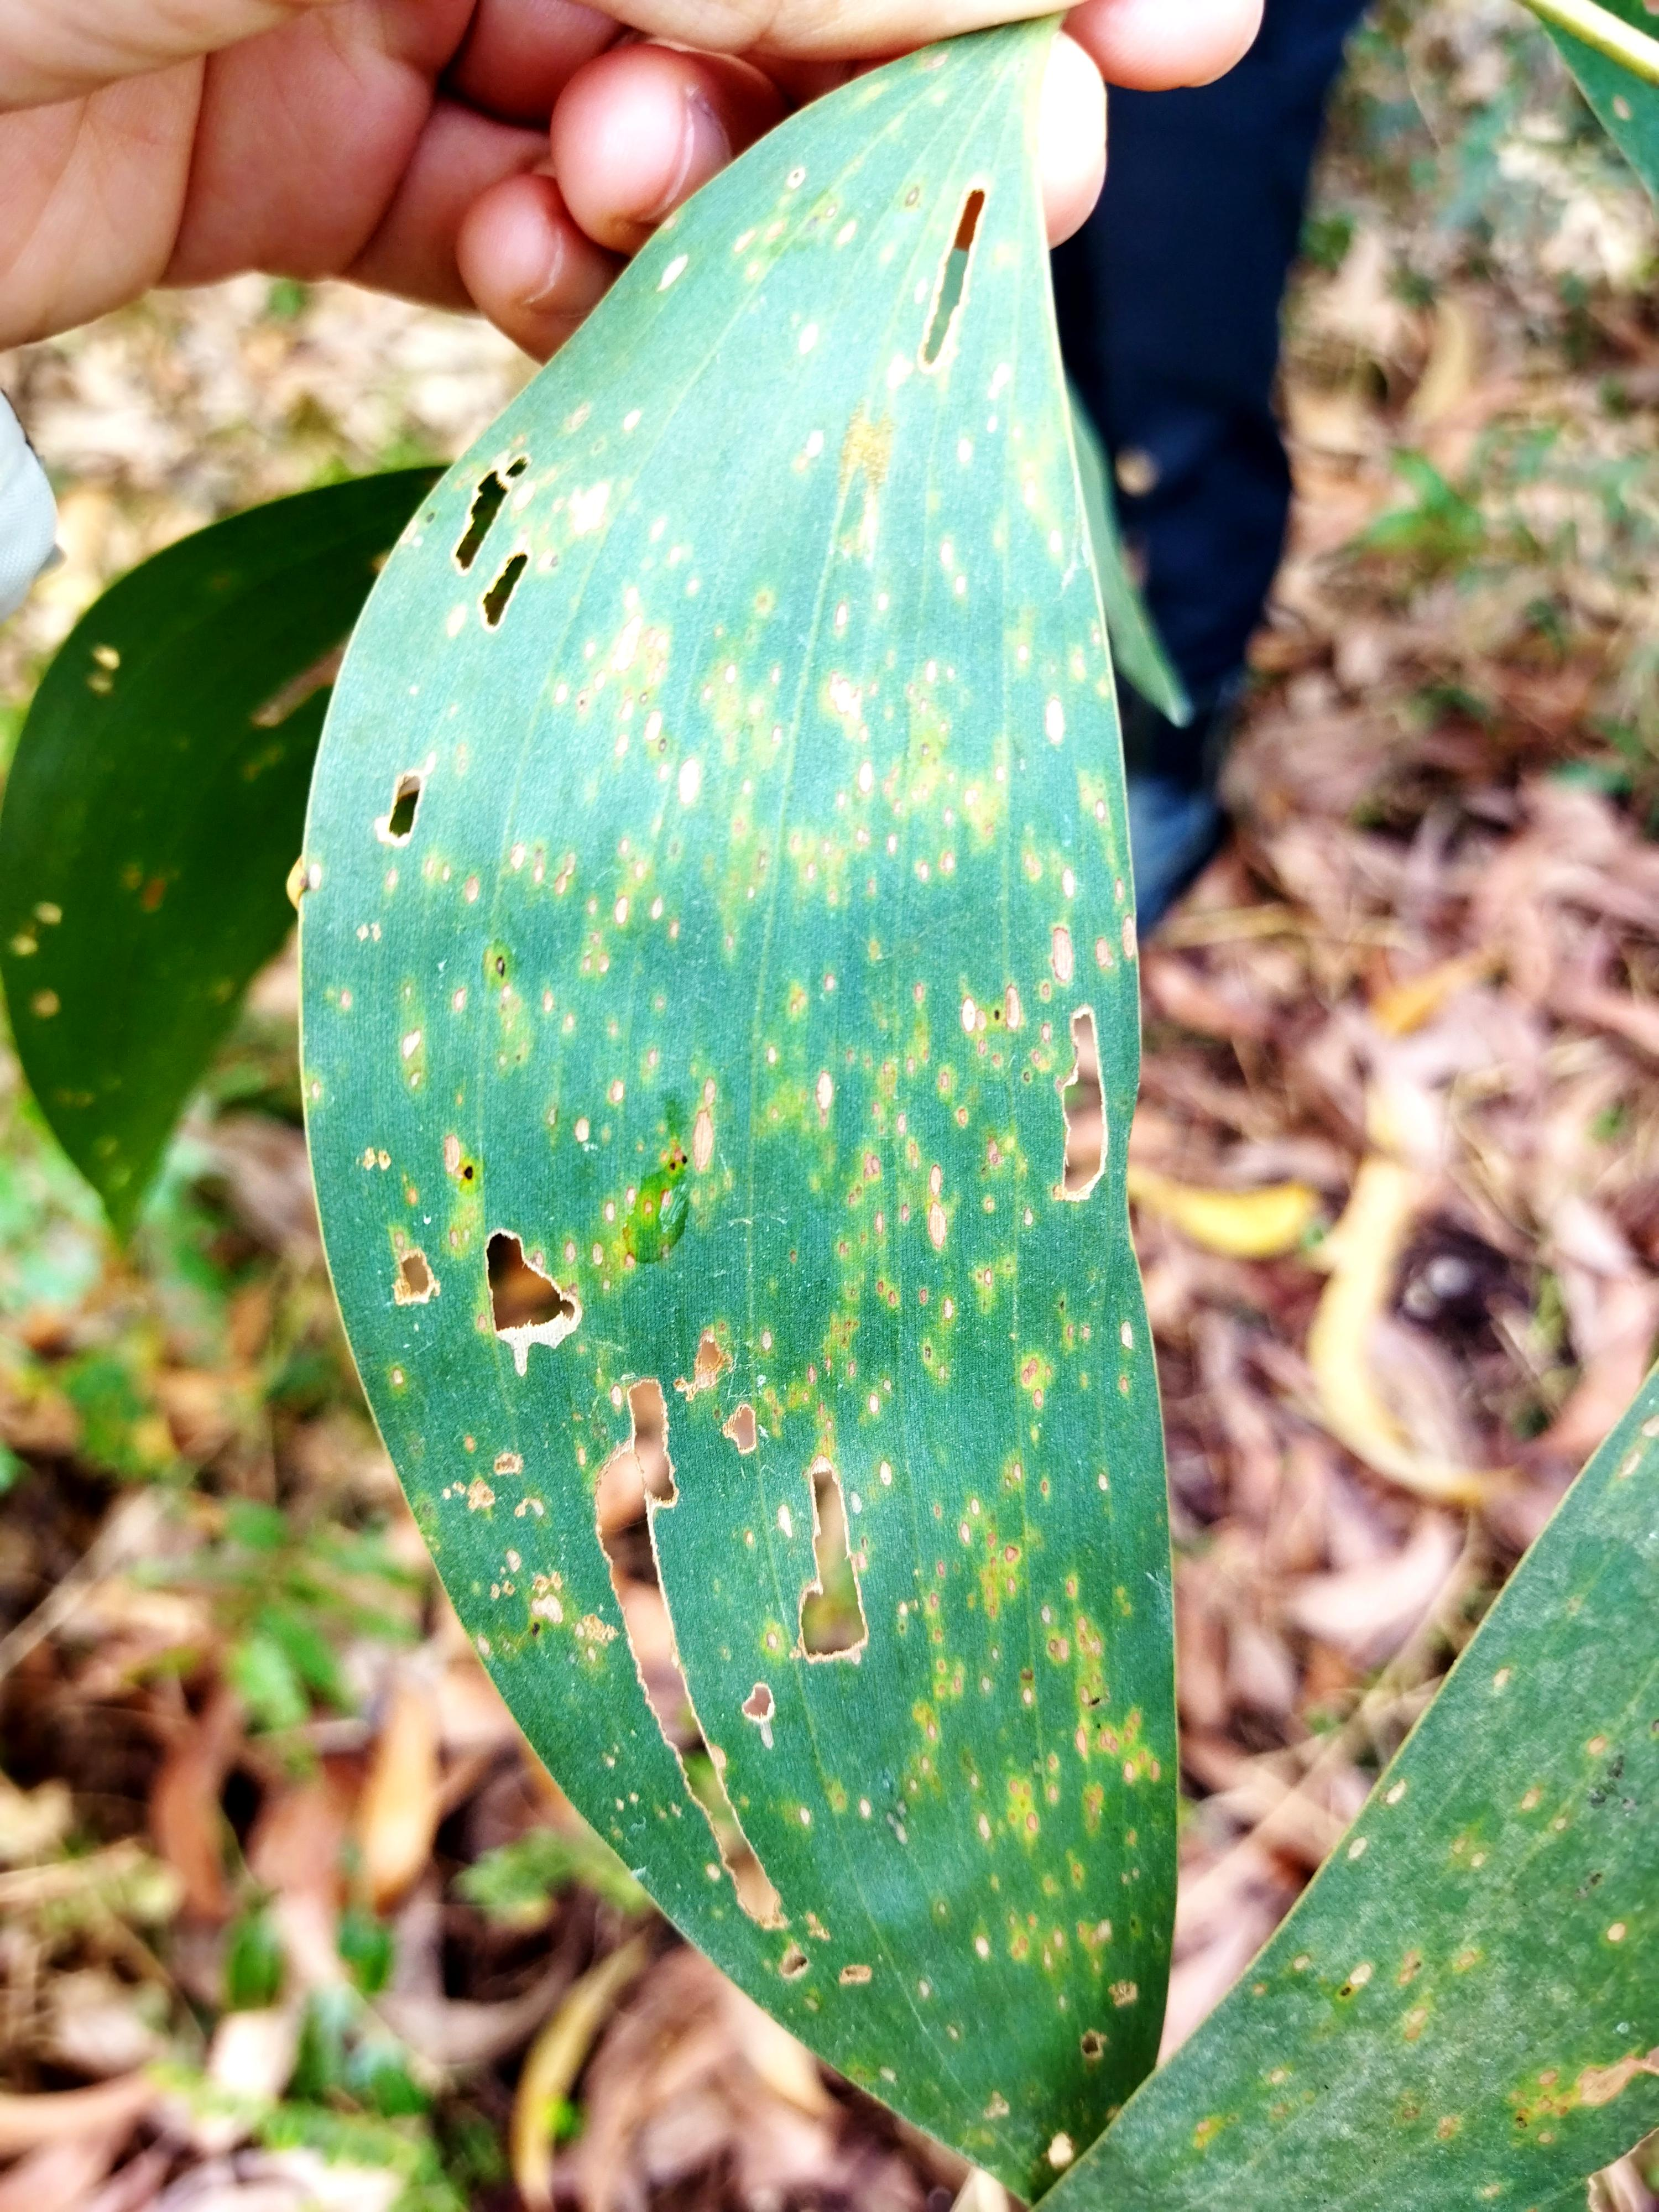Xanthomonas: (356, 167, 1270, 2202)
